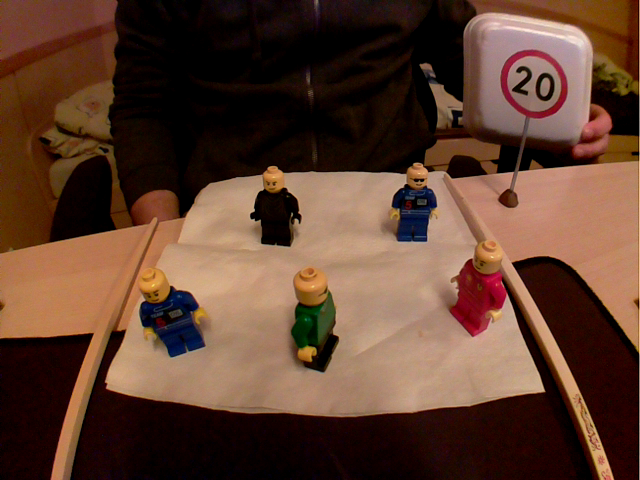Ograniczenie 20: (496, 47, 572, 121)
Postac LEGO: (132, 264, 212, 363), (282, 260, 345, 380), (443, 235, 512, 343), (245, 158, 306, 251), (385, 155, 443, 248)
